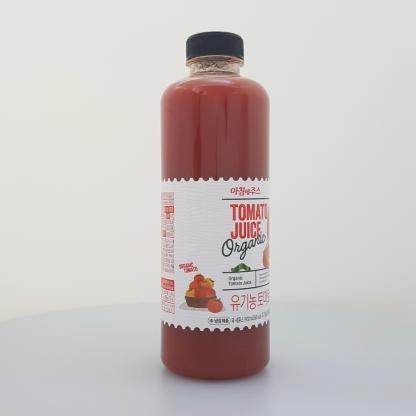-------------------900ML: (160, 31, 270, 380)
